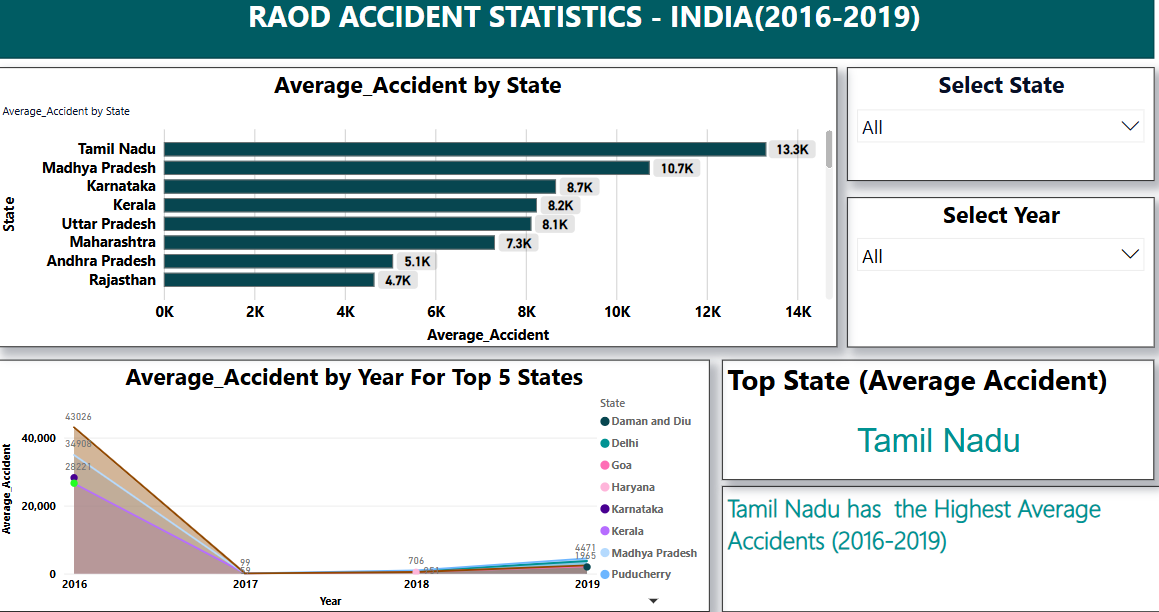

This screenshot's page, from the dashboard's own definition file:
{"tool":"powerbi","page":{"name":"Page 1","canvas":[1280,720],"ordinal":0},"visuals":[{"type":"textbox","box":[9.6,0,1270.7,75.5],"z":0},{"type":"shape","box":[0,0,1270.7,112.5],"z":1000},{"type":"textbox","box":[0,0,1270.7,75.5],"z":2000},{"type":"slicer","title":"Select State","fields":{"Values":["Road_Accident_India_2016_2019.State"]},"box":[933.1,122.1,337.6,124.9],"z":3000},{"type":"slicer","title":"Select Year","fields":{"Values":["Road_Accident_India_2016_2019.Year"]},"box":[933.1,264.8,337.6,164.7],"z":4000},{"type":"barChart","title":"Average_Accident by State","fields":{"Category":["Road_Accident_India_2016_2019.State"],"Y":["Road_Accident_India_2016_2019.Average_Accident"]},"box":[0,122.1,922.1,307.4],"z":5000},{"type":"areaChart","title":"Average_Accident by Year For Top 5 States","fields":{"Category":["Road_Accident_India_2016_2019.Year"],"Y":["Road_Accident_India_2016_2019.Average_Accident"],"Series":["Road_Accident_India_2016_2019.State"]},"box":[0,443.2,782.2,277.2],"z":6000},{"type":"card","title":"Top State (Average Accident)","fields":{"Values":["Road_Accident_India_2016_2019.Top_State"]},"box":[795.9,443.2,474.8,131.7],"z":7000},{"type":"textbox","box":[795.9,581.8,484.4,138.6],"z":9000},{"type":"textbox","box":[9.6,38.4,1270.7,74.1],"z":9001}]}

Visuals, with their boxes on the page's 1280x720 design canvas (x1, y1, x2, y2). These are canvas units, not pixel positions in the 1159x612 screenshot, which may show the page scaled, cropped or inside an application window:
textbox: [x1=10, y1=0, x2=1280, y2=76]
shape: [x1=0, y1=0, x2=1271, y2=112]
textbox: [x1=0, y1=0, x2=1271, y2=76]
"Select State" slicer: [x1=933, y1=122, x2=1271, y2=247]
"Select Year" slicer: [x1=933, y1=265, x2=1271, y2=430]
"Average_Accident by State" barChart: [x1=0, y1=122, x2=922, y2=430]
"Average_Accident by Year For Top 5 States" areaChart: [x1=0, y1=443, x2=782, y2=720]
"Top State (Average Accident)" card: [x1=796, y1=443, x2=1271, y2=575]
textbox: [x1=796, y1=582, x2=1280, y2=720]
textbox: [x1=10, y1=38, x2=1280, y2=112]
